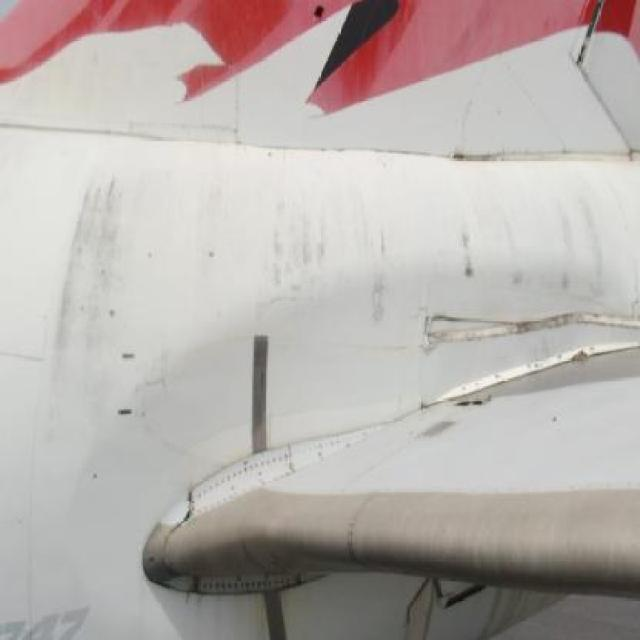Missing-Rivet: (182, 441, 312, 505), (178, 567, 324, 611)
Rust: (180, 151, 406, 338), (427, 163, 640, 302), (49, 142, 142, 446), (382, 572, 556, 638)
Scartch: (418, 308, 590, 355), (144, 329, 202, 400)
